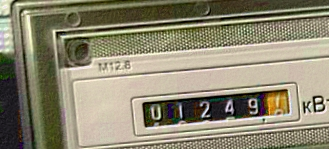0: (149, 101, 163, 121)
1: (174, 100, 185, 119)
2: (198, 98, 212, 119)
4: (223, 96, 235, 116)
7: (271, 89, 284, 108)
9: (246, 95, 260, 117)
screen: (123, 81, 300, 134)
